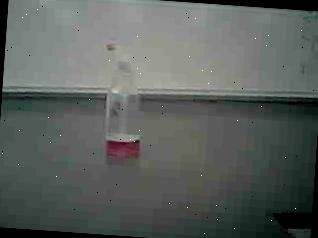hazard: (96, 39, 151, 164)
